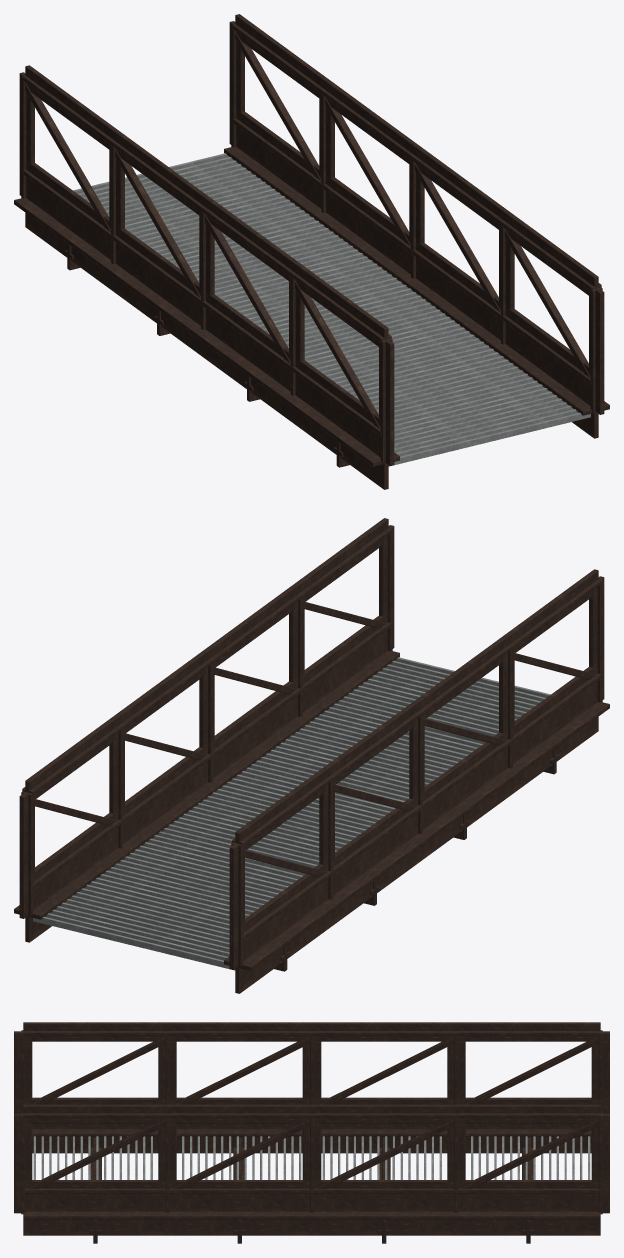
File: f3_v3_riveted_span.glb
3 renders of one model, top to bottom at view 1: azimuth 30°, elevation 25°; view 2: azimuth 150°, elevation 25°; view 3: azimuth 270°, elevation 25°, orthographic. The views are drawn at different scales.
Visible parts, largest first — view 1: f3_oxidized_iron_surface, f3_bare_worn_steel_surface; view 2: f3_oxidized_iron_surface, f3_bare_worn_steel_surface; view 3: f3_oxidized_iron_surface, f3_bare_worn_steel_surface.
Part boxes in pixels (box(x1,y1,x2,y2)): f3_oxidized_iron_surface: box(14, 14, 609, 489); f3_bare_worn_steel_surface: box(73, 153, 590, 466); f3_oxidized_iron_surface: box(14, 518, 609, 993); f3_bare_worn_steel_surface: box(33, 657, 550, 970); f3_oxidized_iron_surface: box(14, 1022, 609, 1243); f3_bare_worn_steel_surface: box(33, 1136, 590, 1179).
Bounding box in the file's own units: 3.05 × 2.09 × 8.25.
Materials: 2 (2 with a texture image).
